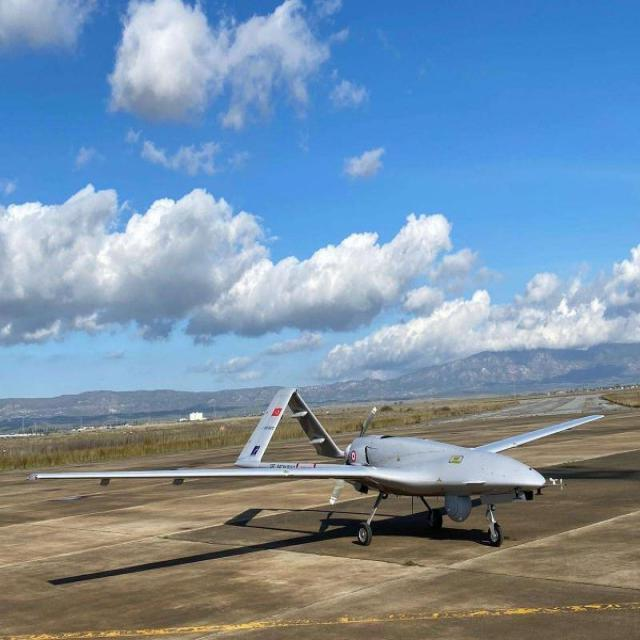iha: (12, 380, 613, 569)
